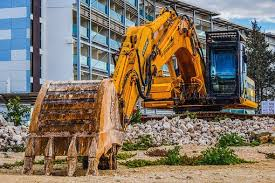excavator: (21, 13, 262, 177)
